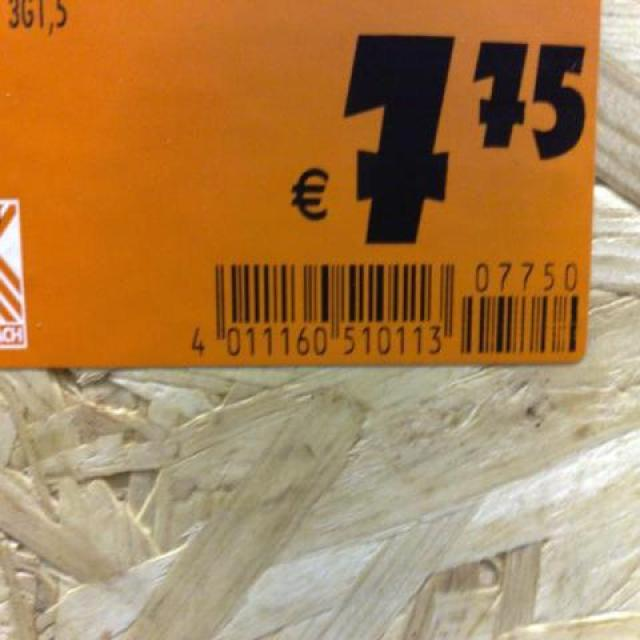Barcode: (184, 250, 459, 366)
